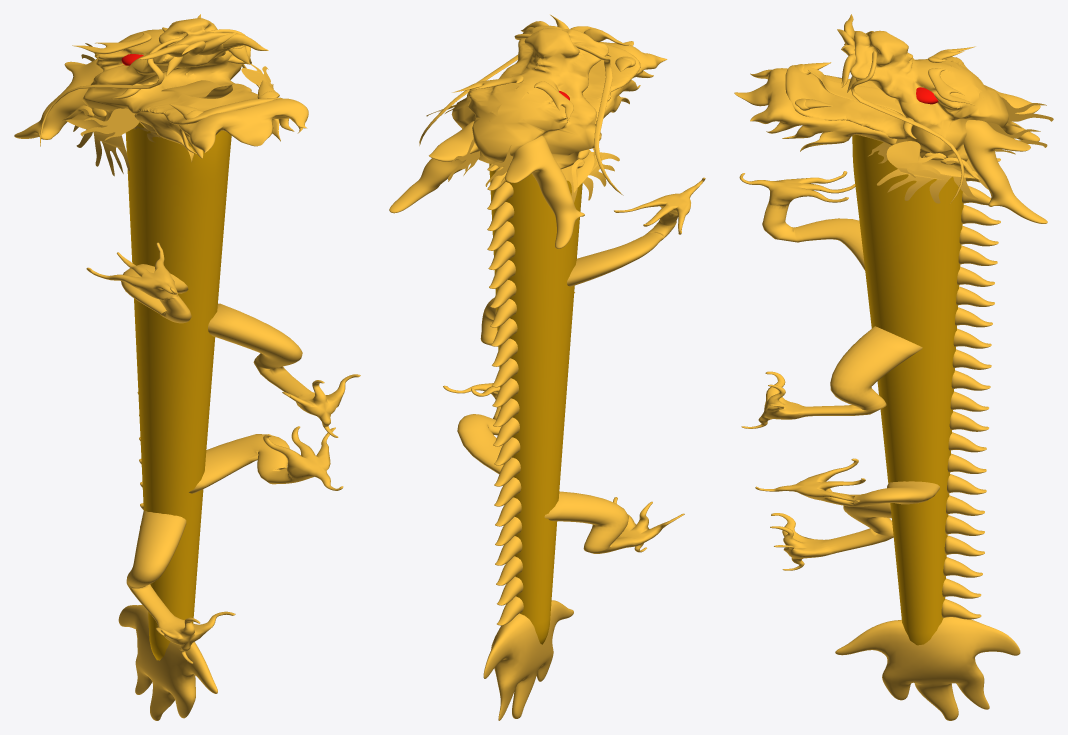
3 renders of one model, left to right at view 1: azimuth 30°, elevation 25°; view 2: azimuth 150°, elevation 25°; view 3: azimuth 270°, elevation 25°, orthographic. The views are drawn at different scales.
Parts seen in each view (by area): view 1: 龙; view 2: 龙; view 3: 龙.
Boxes of the visible parts, x1=… form: 龙: x1=14, y1=14, x2=360, y2=720; 龙: x1=389, y1=14, x2=705, y2=720; 龙: x1=734, y1=14, x2=1053, y2=720.
Bounding box in the file's own units: 560 × 1525 × 645.
